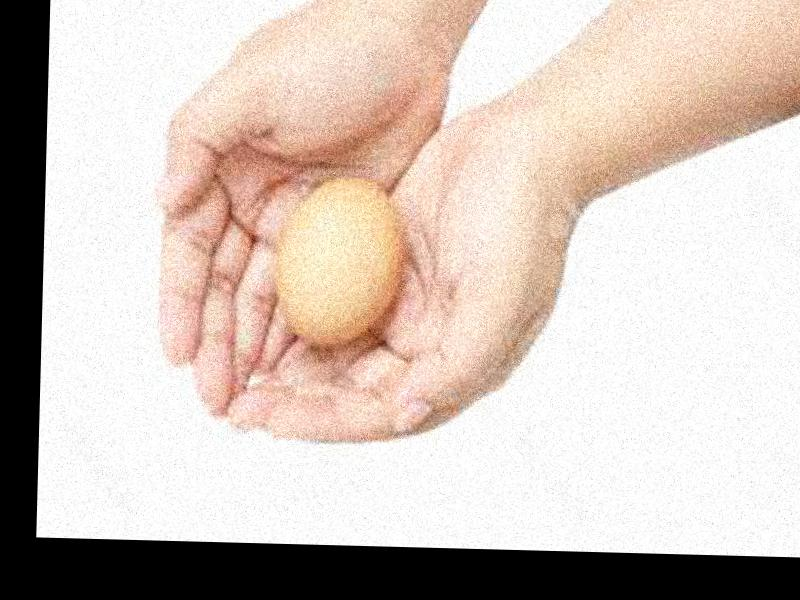Eggs: (277, 179, 406, 343)
